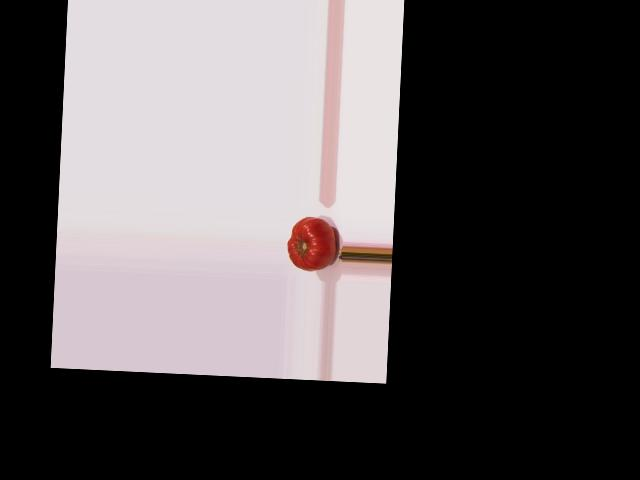tomato: (286, 216, 336, 271)
